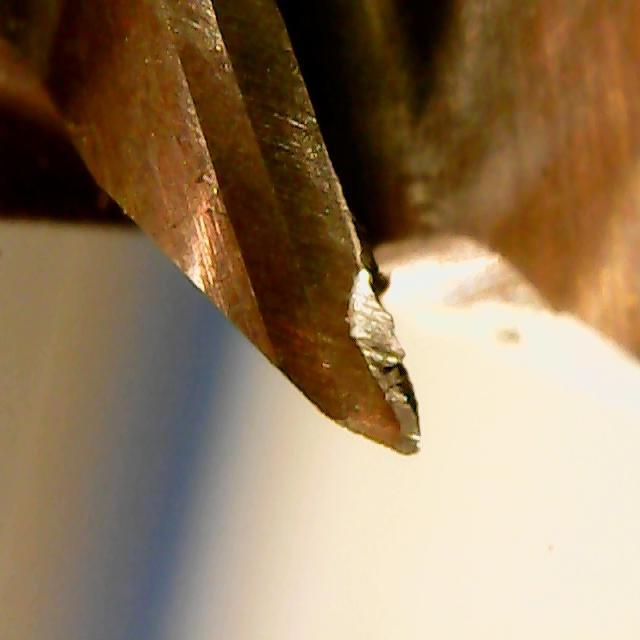Tool-wear-class-3: (240, 138, 456, 473)
